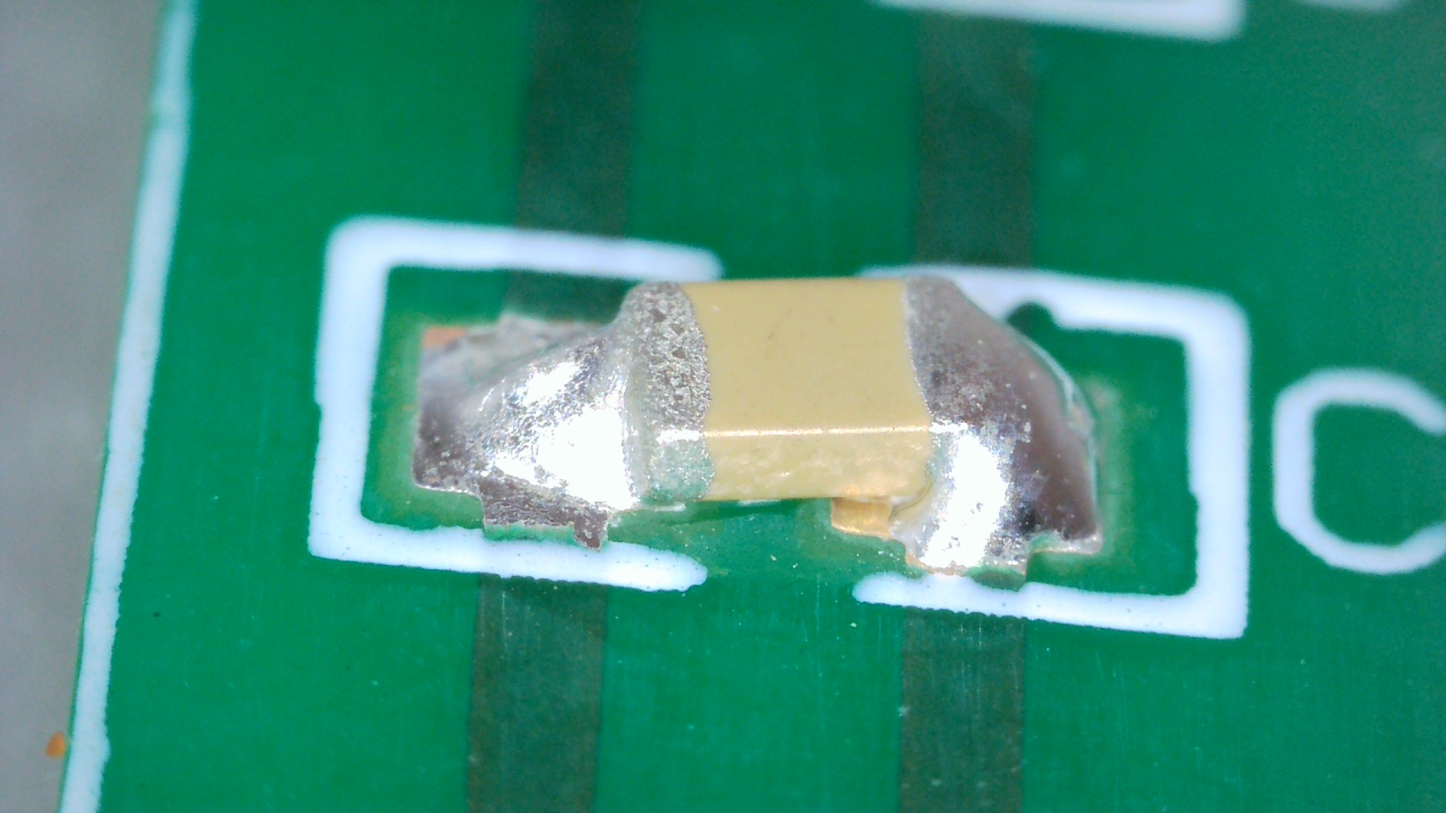NG: (420, 281, 711, 530), (887, 279, 1101, 572)
